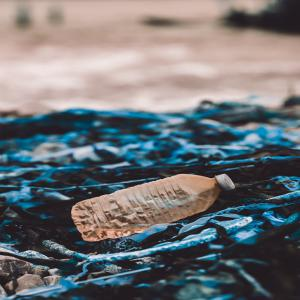Plastic-bottle: (71, 174, 237, 243)
